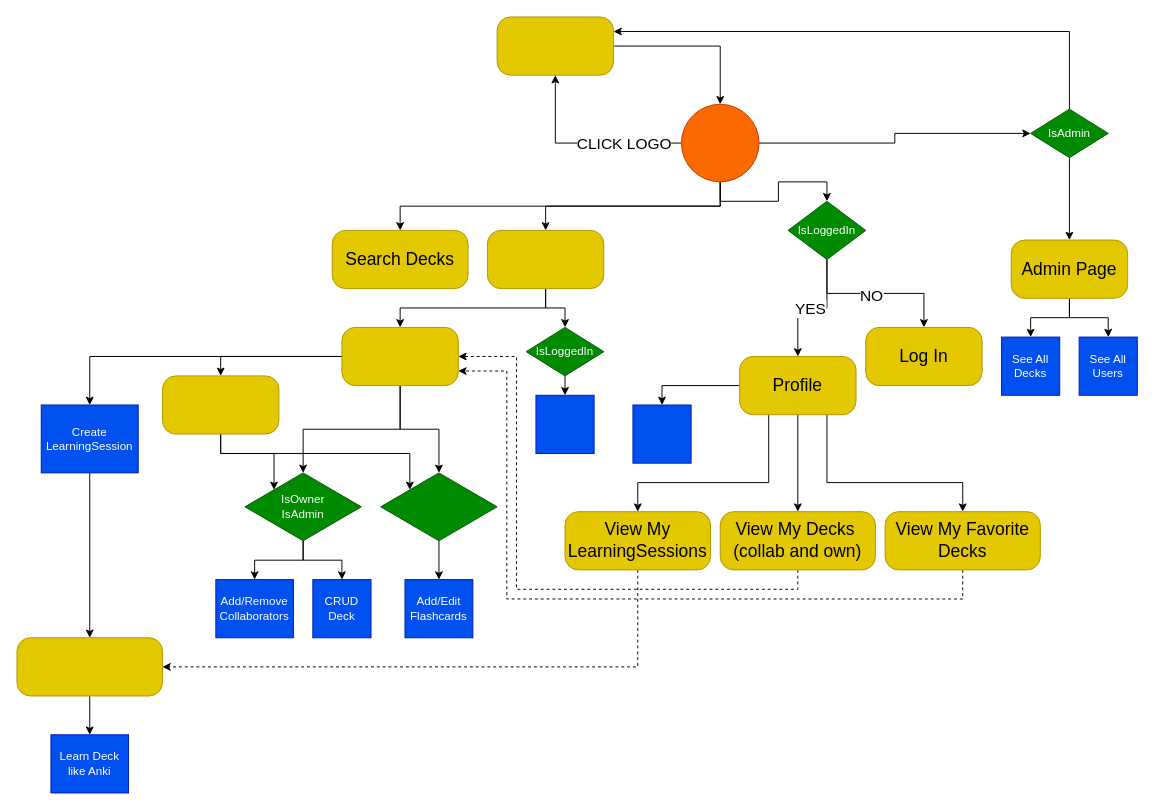
This 1154x810 diagram has some shape labels left out. The centre of each missing label's shape, as x and y in pixels:
All Decks: point (545, 259)
Change Username: point (661, 433)
Create Deck: point (564, 423)
Deck Page: point (399, 356)
IsOwner IsCollaborator IsAdmin: point (438, 506)
LearningSession Page: point (89, 666)
Navbar: point (719, 142)
Review Deck Page: point (220, 404)
Root: point (555, 45)
